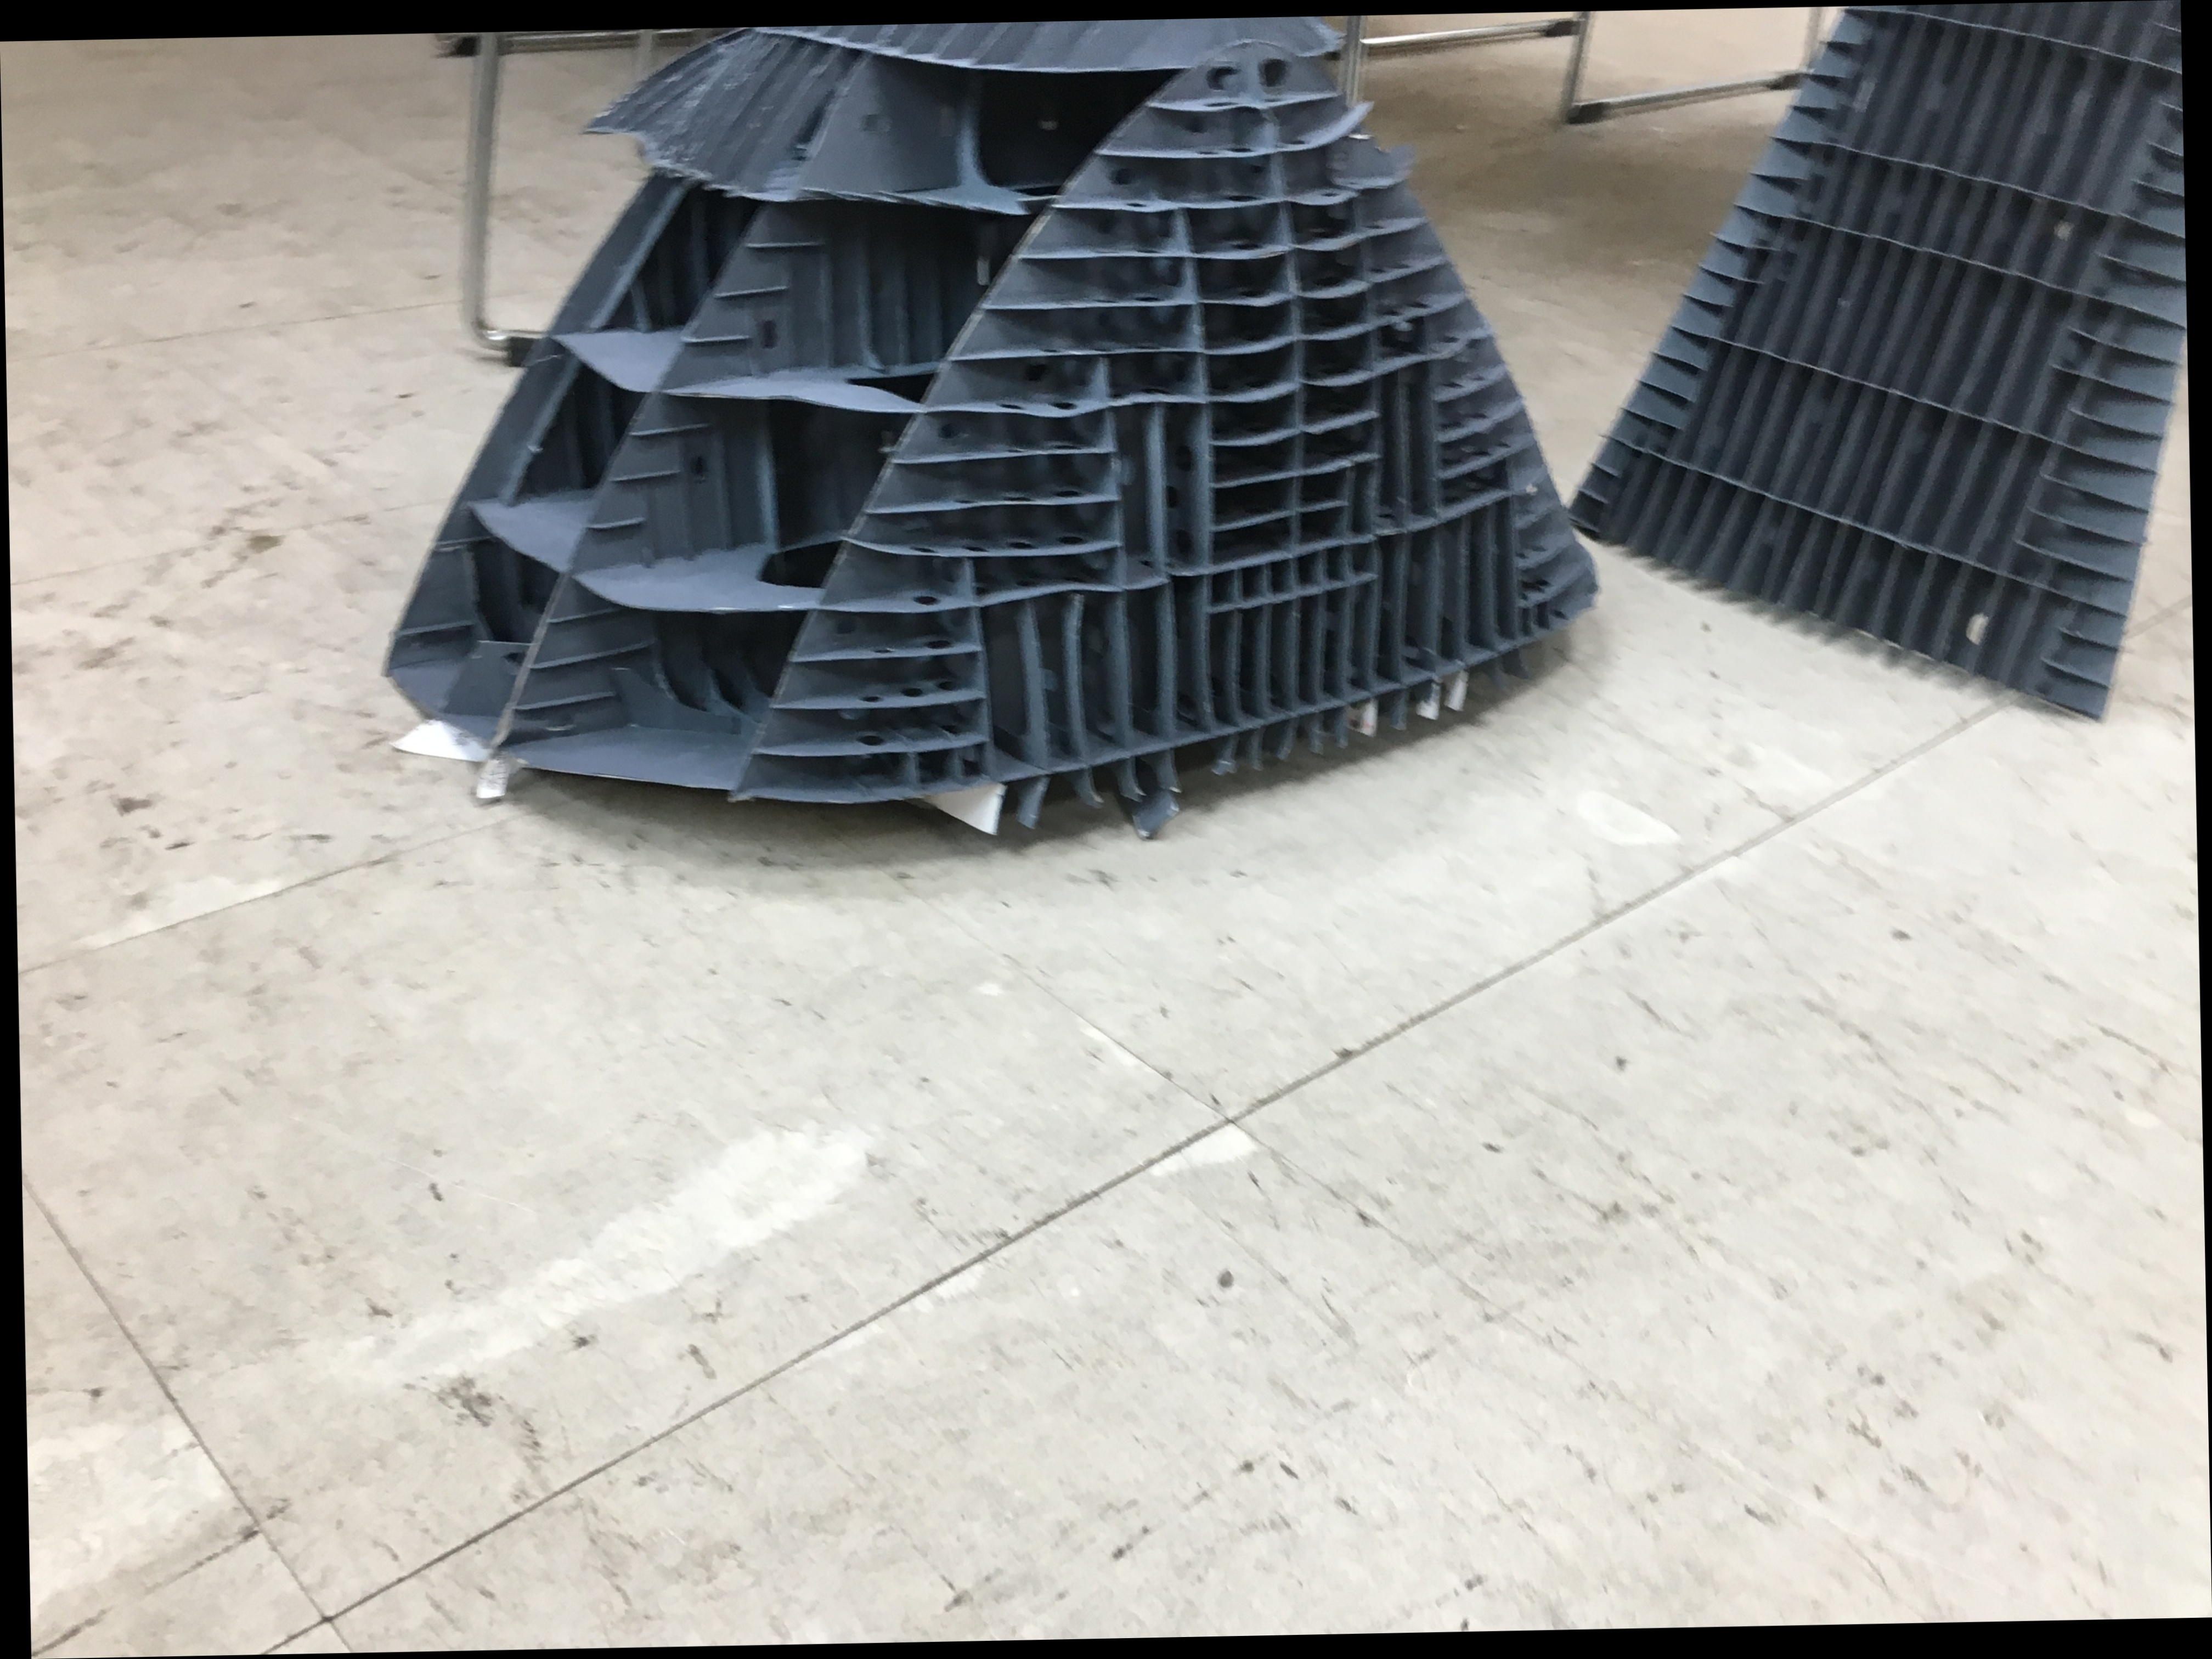D: (312, 16, 1651, 939)
